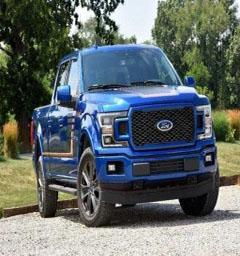car: (26, 26, 228, 230)
